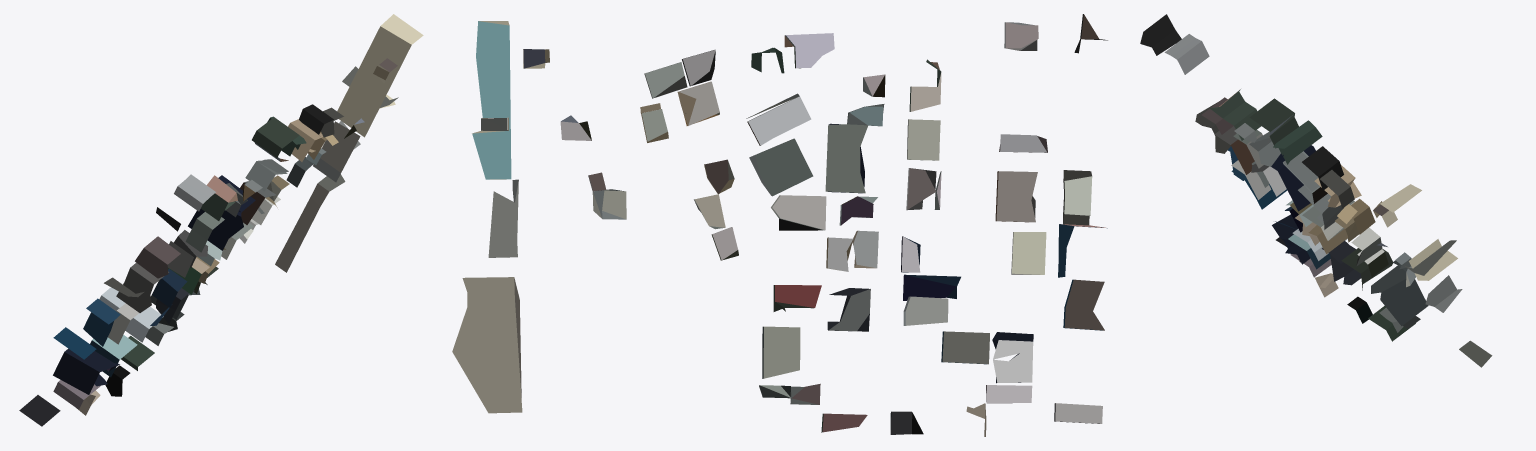
3 renders of one model, left to right at view 1: azimuth 30°, elevation 25°; view 2: azimuth 150°, elevation 25°; view 3: azimuth 270°, elevation 25°, orthographic. The views are drawn at different scales.
Bounding box in the file's own units: 234 × 138 × 168.
